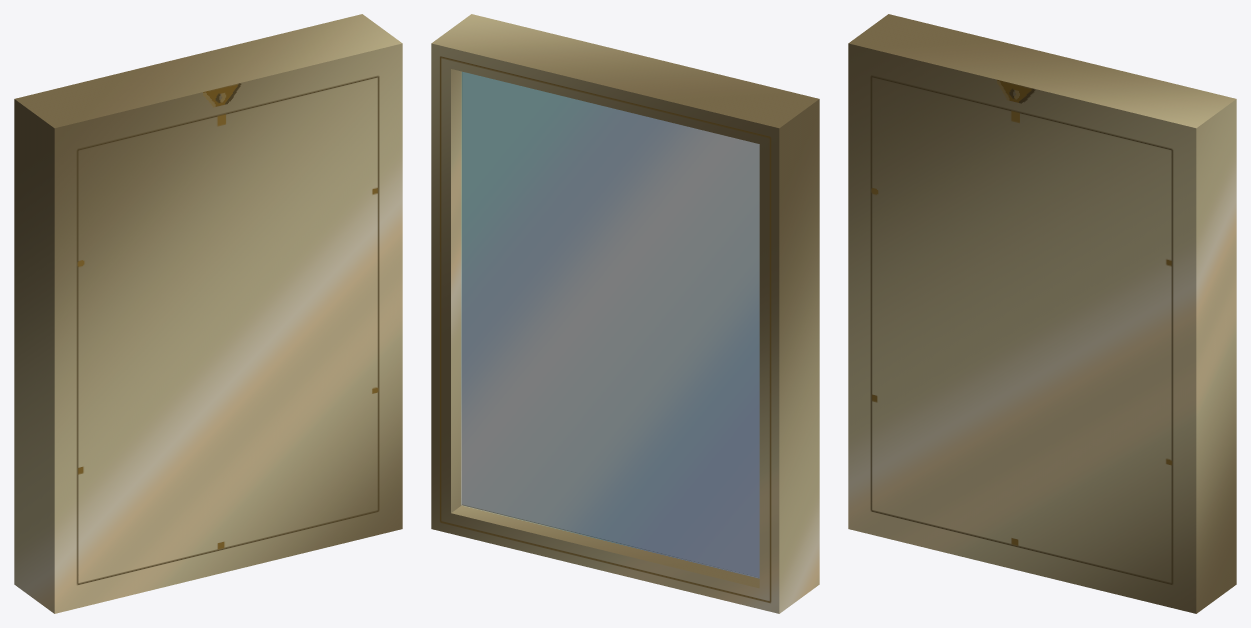
Rendered from PictureFrame.FBX.
The picture shows the model from 3 angles, left to right: view 1: azimuth 30°, elevation 25°; view 2: azimuth 150°, elevation 25°; view 3: azimuth 330°, elevation 25°; orthographic projection.
Parts seen in each view (by area): view 1: Cadre; view 2: Cadre; view 3: Cadre.
Part boxes in pixels (x1,y1,x2,y2): Cadre: (14,14,402,613); Cadre: (431,14,819,613); Cadre: (848,14,1236,613).
Size of the model in its own units: 0.45 by 0.6 by 0.09.
